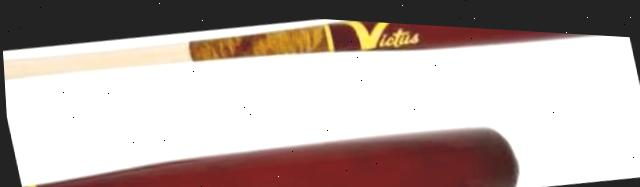baseball bat: (0, 0, 632, 122), (0, 0, 631, 120), (11, 87, 521, 187), (12, 90, 521, 187)
